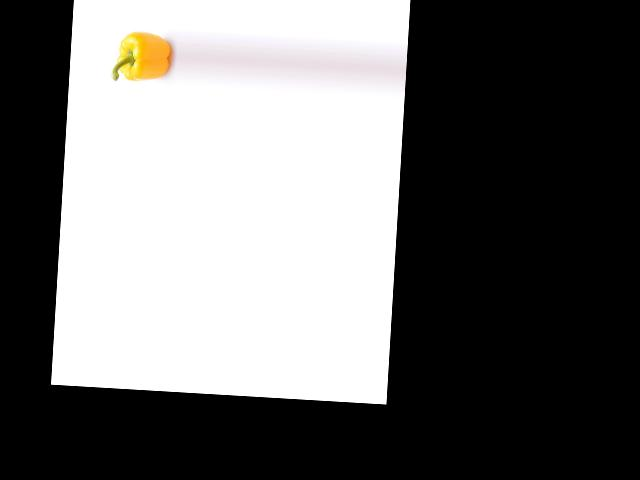bell_pepper: (113, 26, 173, 85)
